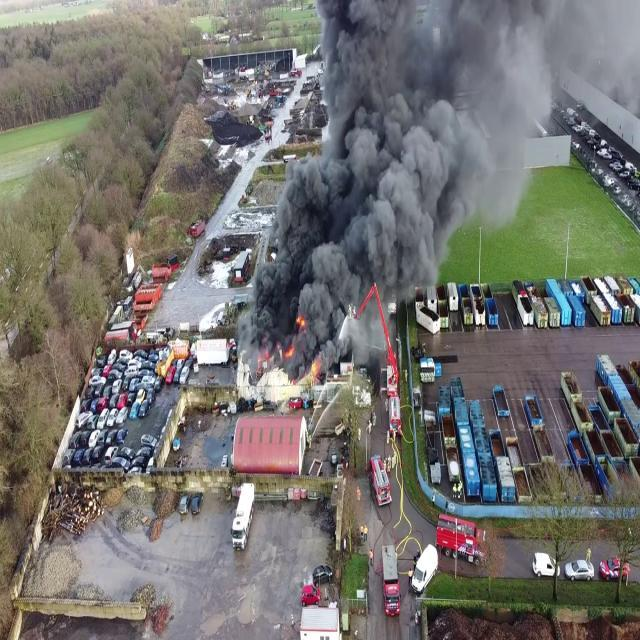Smoke: (251, 1, 507, 342)
